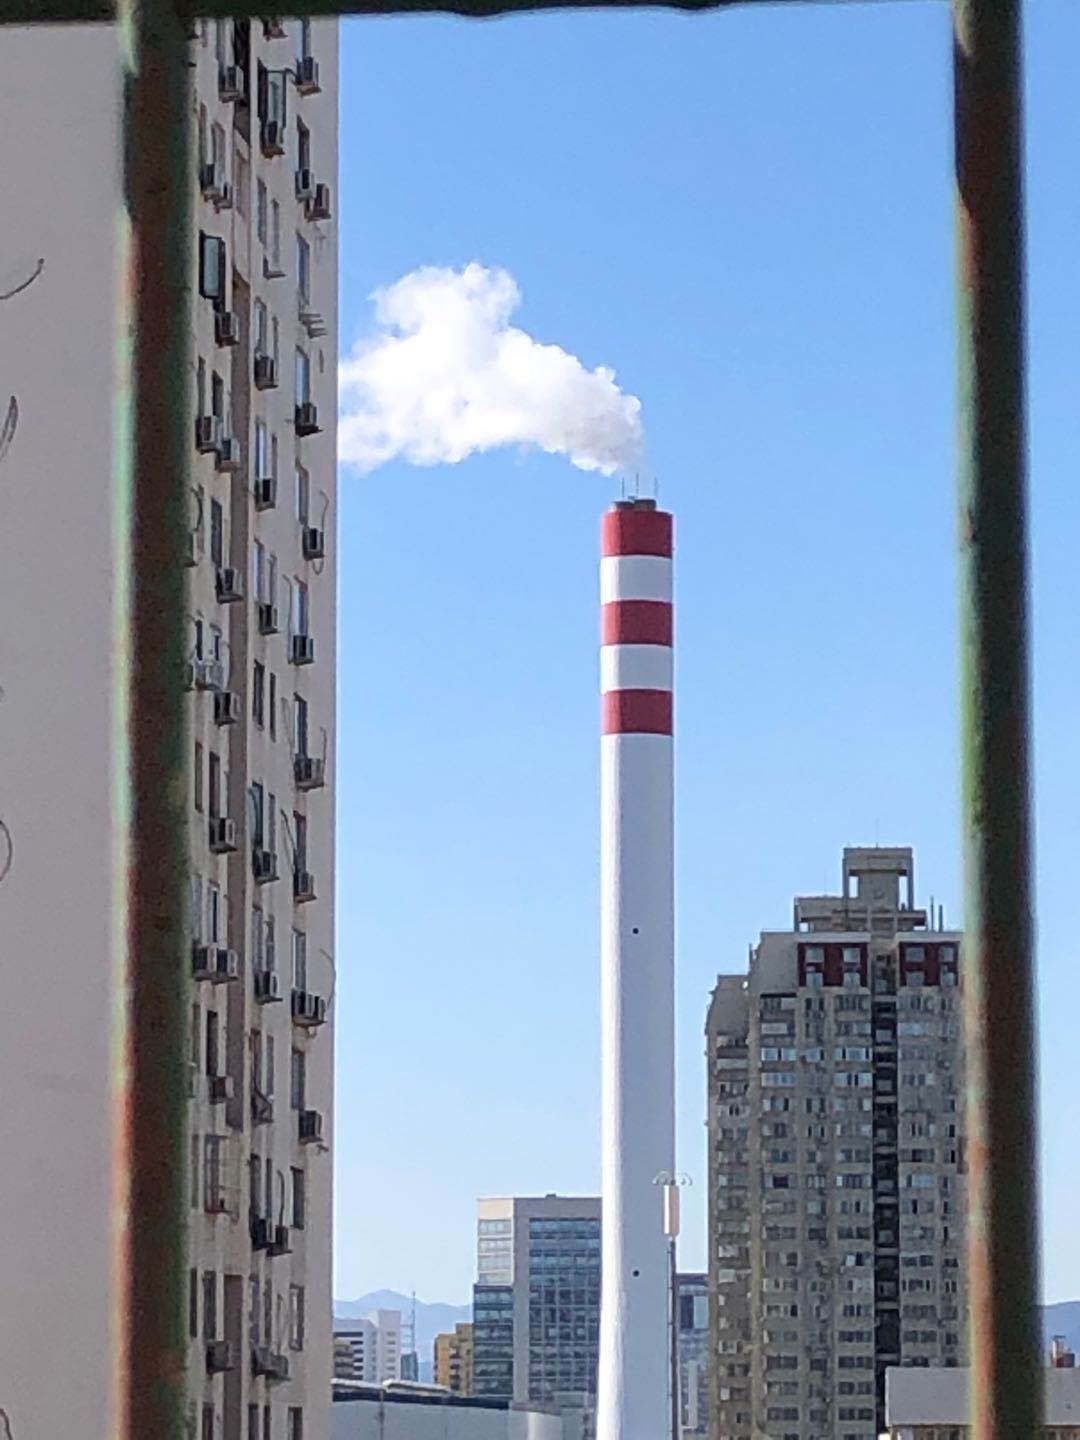yanwu: (341, 255, 656, 495)
